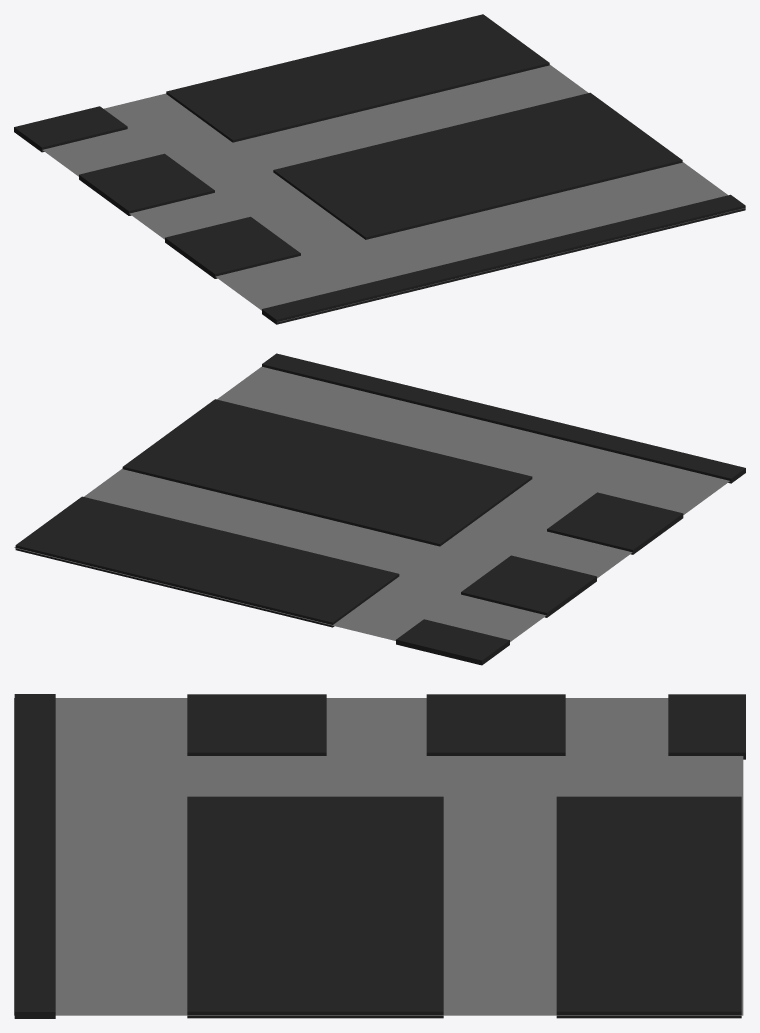
The model's file is Location.fbx.
3 renders of one model, top to bottom at view 1: azimuth 30°, elevation 25°; view 2: azimuth 150°, elevation 25°; view 3: azimuth 270°, elevation 25°, orthographic. The views are drawn at different scales.
Parts seen in each view (by area): view 1: Cube.017, Plane.001; view 2: Cube.017, Plane.001; view 3: Cube.017, Plane.001.
Part boxes in pixels (x1,y1,x2,y2): Cube.017: [14, 14, 745, 324]; Plane.001: [42, 64, 745, 322]; Cube.017: [15, 353, 745, 665]; Plane.001: [14, 366, 729, 641]; Cube.017: [14, 694, 745, 1018]; Plane.001: [14, 698, 743, 1015].
Size of the model in its own units: 5004 by 50 by 4866.
